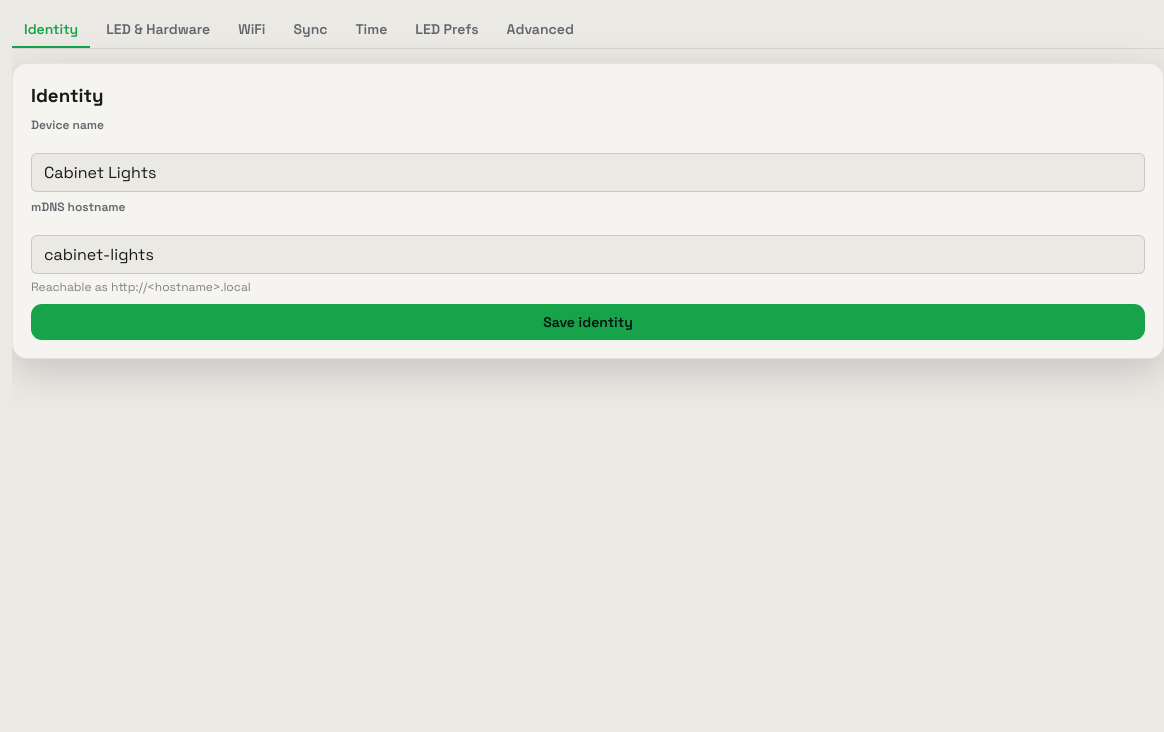
Test: ConfigTab › a failed dry-run toasts an error and opens nothing
The image size is (1164, 732).
Click the button "Save identity" at [588, 322], box x1=31 y1=304 x2=1145 y2=340
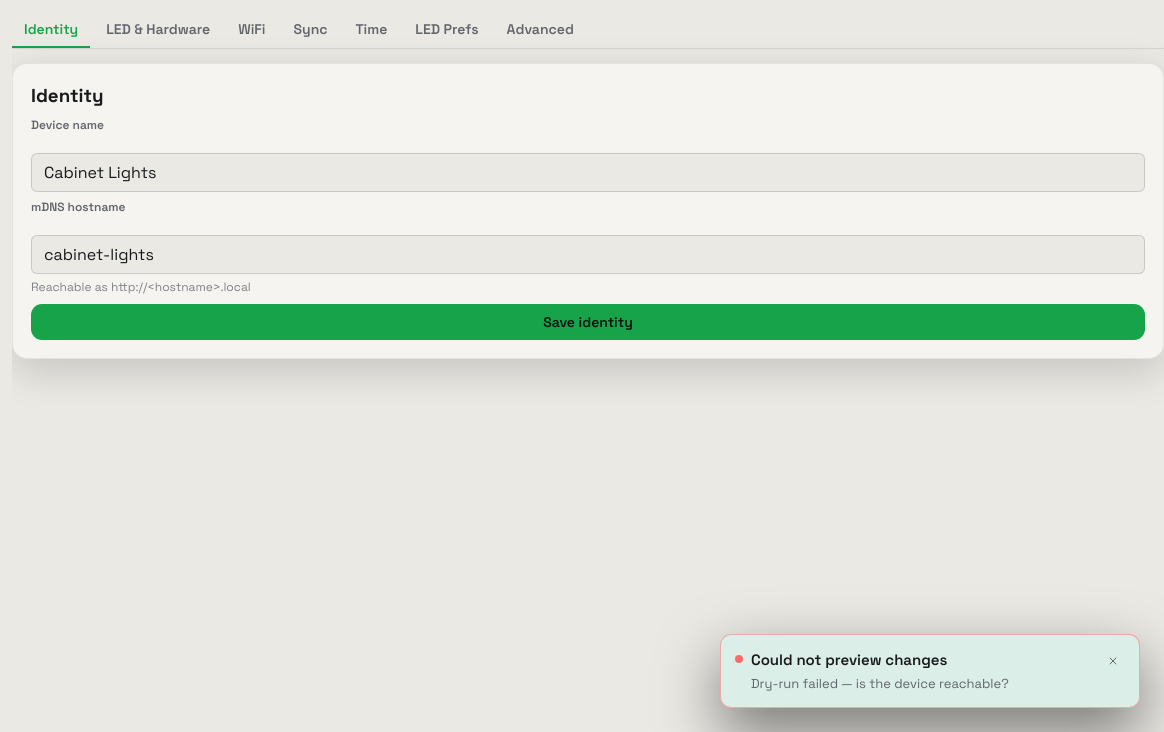
Now the text "Could not preview changes" is shown, box x1=751 y1=650 x2=947 y2=669
